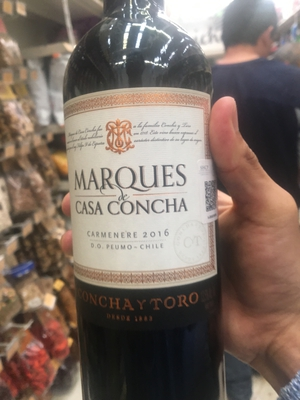marques de casa concha carmenere: (59, 40, 224, 374)
